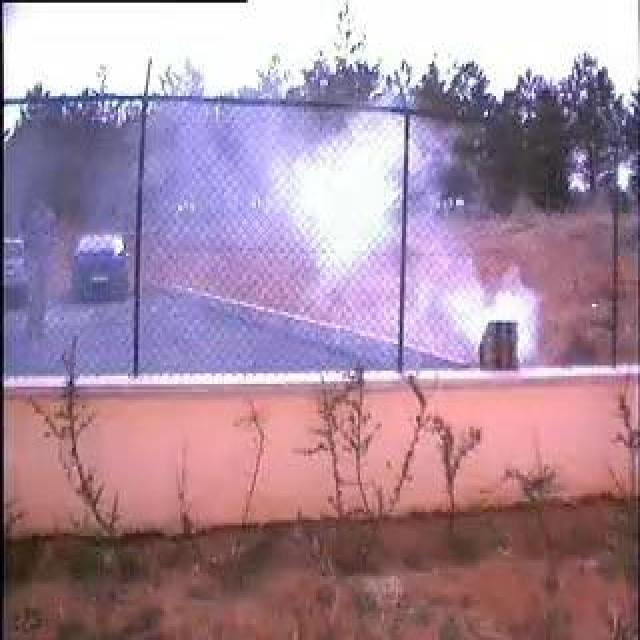Smoke: (164, 105, 536, 364)
